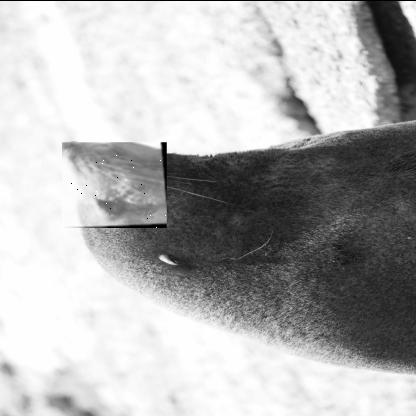face: (62, 140, 168, 227)
